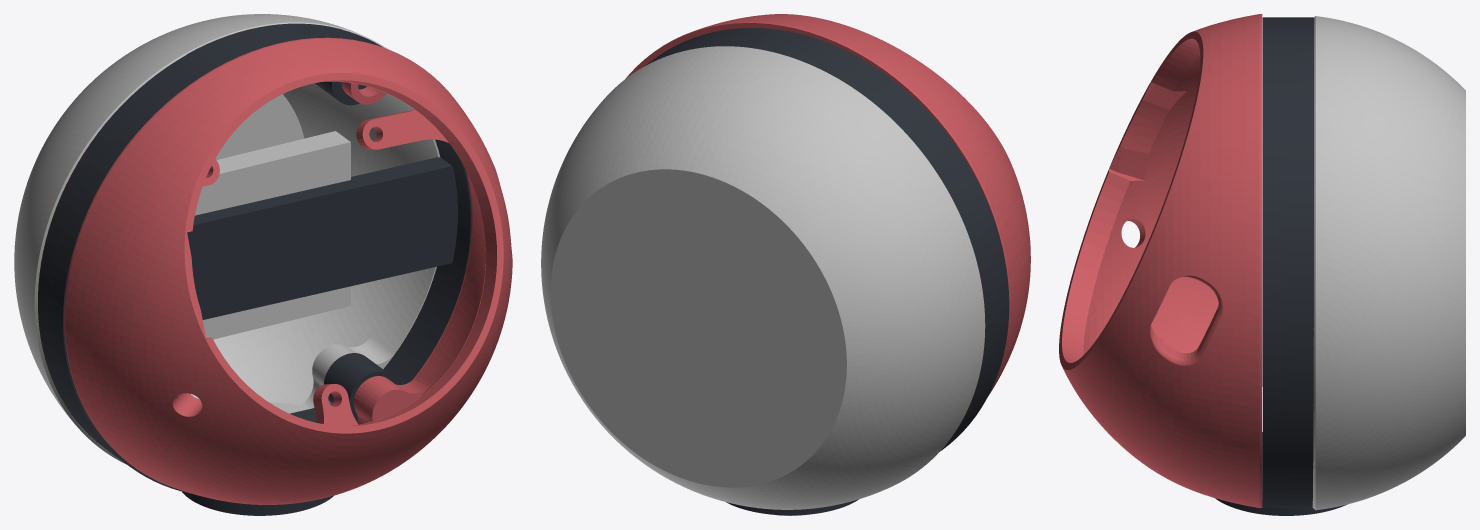
The model's file is poketama-poke-battery.glb.
3 renders of one model, left to right at view 1: azimuth 30°, elevation 25°; view 2: azimuth 150°, elevation 25°; view 3: azimuth 270°, elevation 25°, orthographic.
Bounding box in the file's own units: 1.93 × 2 × 1.58.
